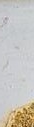Corrosion: (4, 101, 34, 127)
